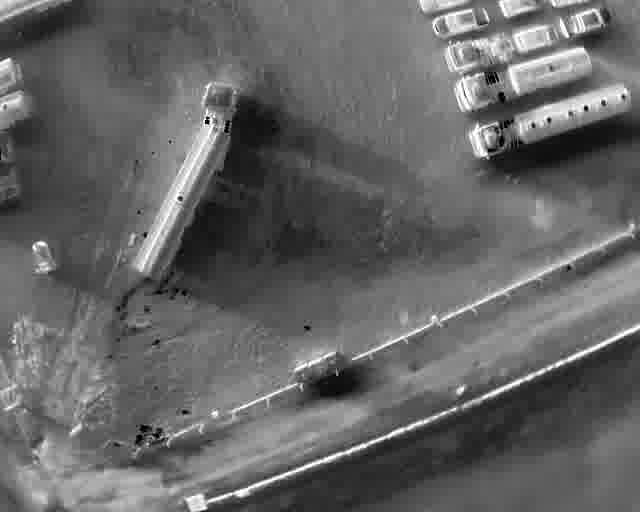car: (432, 7, 488, 39), (558, 5, 613, 36), (512, 26, 557, 51), (497, 0, 543, 18)
truck: (131, 80, 238, 284), (467, 82, 634, 161), (454, 45, 593, 110), (445, 33, 516, 73)
